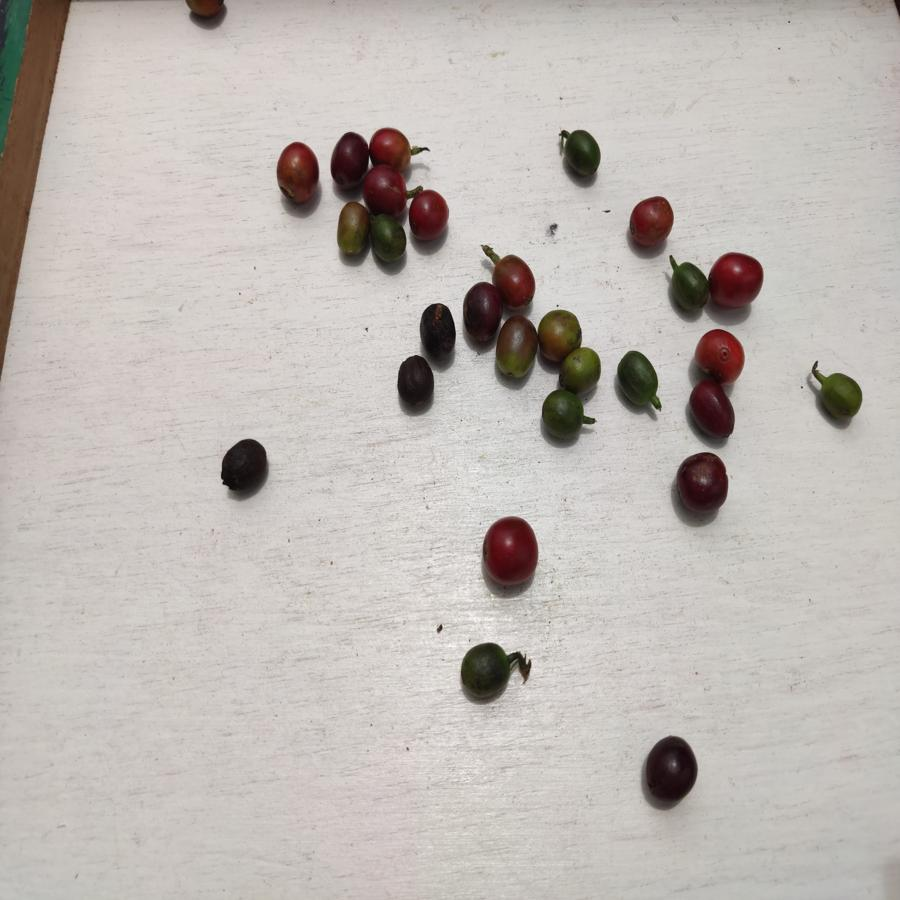Inmaduro: (459, 641, 515, 701), (612, 349, 661, 410), (818, 372, 868, 422), (537, 390, 587, 436), (671, 261, 710, 316), (559, 129, 601, 180), (371, 216, 408, 265)
Maduro: (479, 516, 541, 589), (707, 252, 766, 309), (276, 142, 320, 207), (694, 329, 749, 380), (626, 194, 674, 248), (494, 252, 537, 307), (409, 190, 451, 242), (365, 167, 409, 213), (371, 128, 417, 169)
Pinton: (495, 313, 537, 377), (335, 201, 371, 258), (536, 310, 586, 347), (558, 349, 602, 390)
Sobremaduro: (641, 737, 699, 806), (677, 453, 730, 515), (688, 381, 738, 441), (220, 439, 268, 493), (460, 280, 498, 347), (417, 303, 458, 359), (395, 355, 435, 411), (332, 129, 369, 188)
